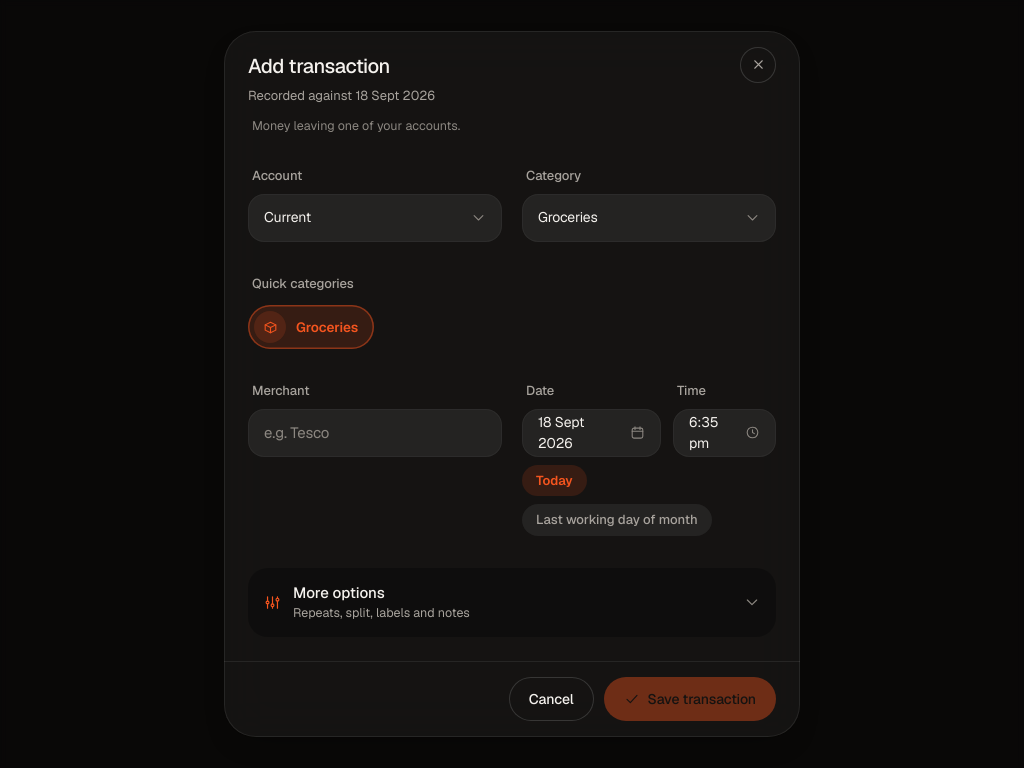
"This repeats" › says you will not have to enter it again
(page scrolled)
Click the button "More options Repeats, split, labels and notes".
click(339, 592)  # box [248,568,776,637]
(page scrolled)
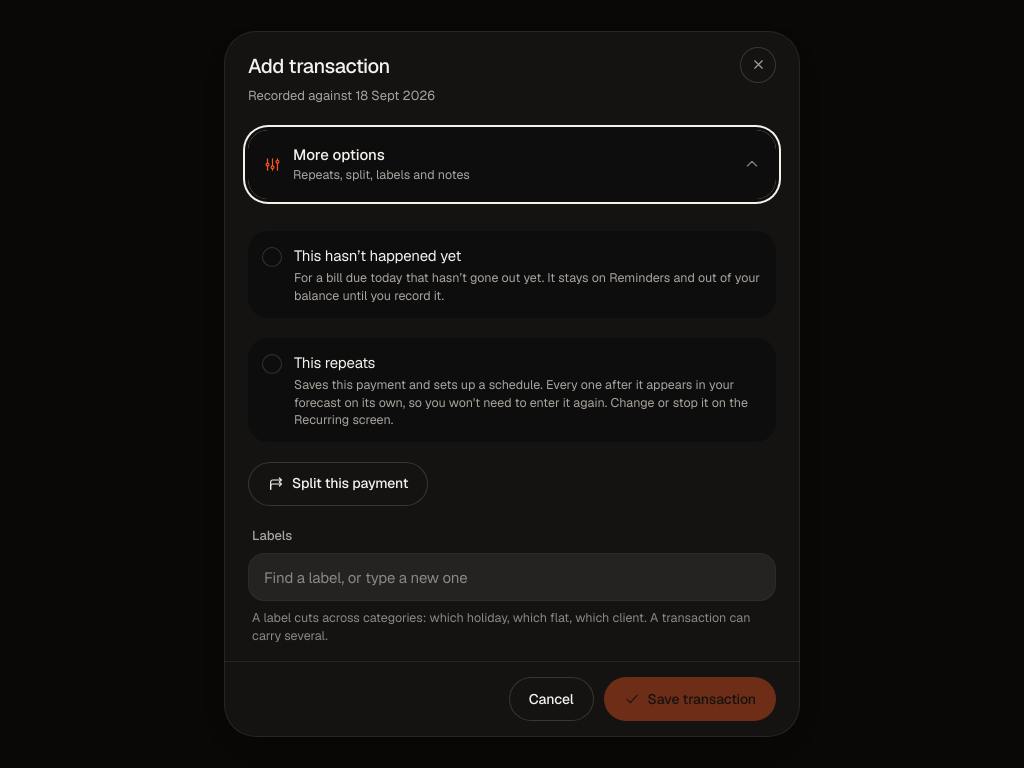
Expected: the checkbox labelled "This repeats" shows "won.t need to enter it again", [248,338,776,442]
